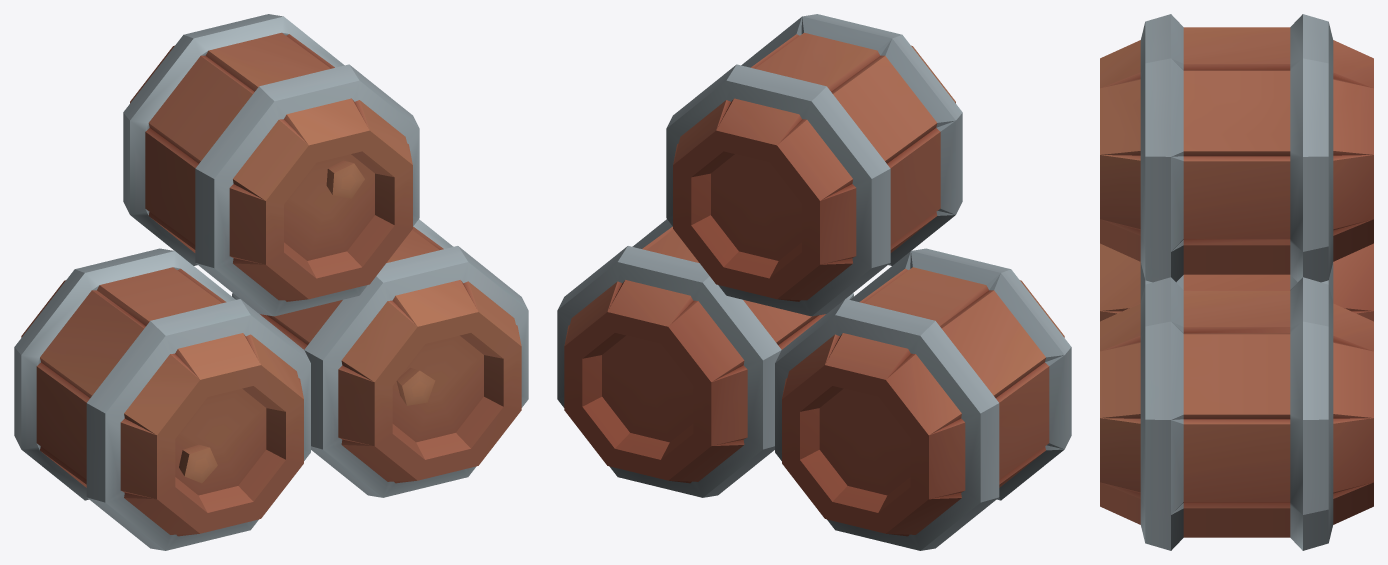
The model's file is d_kaykit_tonnelets_empiles.glb.
3 views of the same model, side by side, from view 1: azimuth 30°, elevation 25°; view 2: azimuth 150°, elevation 25°; view 3: azimuth 270°, elevation 25° (orthographic).
Visible parts, largest first — view 1: d_kaykit_tonnelets_empiles; view 2: d_kaykit_tonnelets_empiles; view 3: d_kaykit_tonnelets_empiles.
Part boxes in pixels (bbox=[...]): d_kaykit_tonnelets_empiles: bbox=[14, 14, 528, 550]; d_kaykit_tonnelets_empiles: bbox=[557, 14, 1071, 550]; d_kaykit_tonnelets_empiles: bbox=[1100, 14, 1373, 550].
Bounding box in the file's own units: 1.85 × 1.77 × 1.
1 material, 1 textured.
